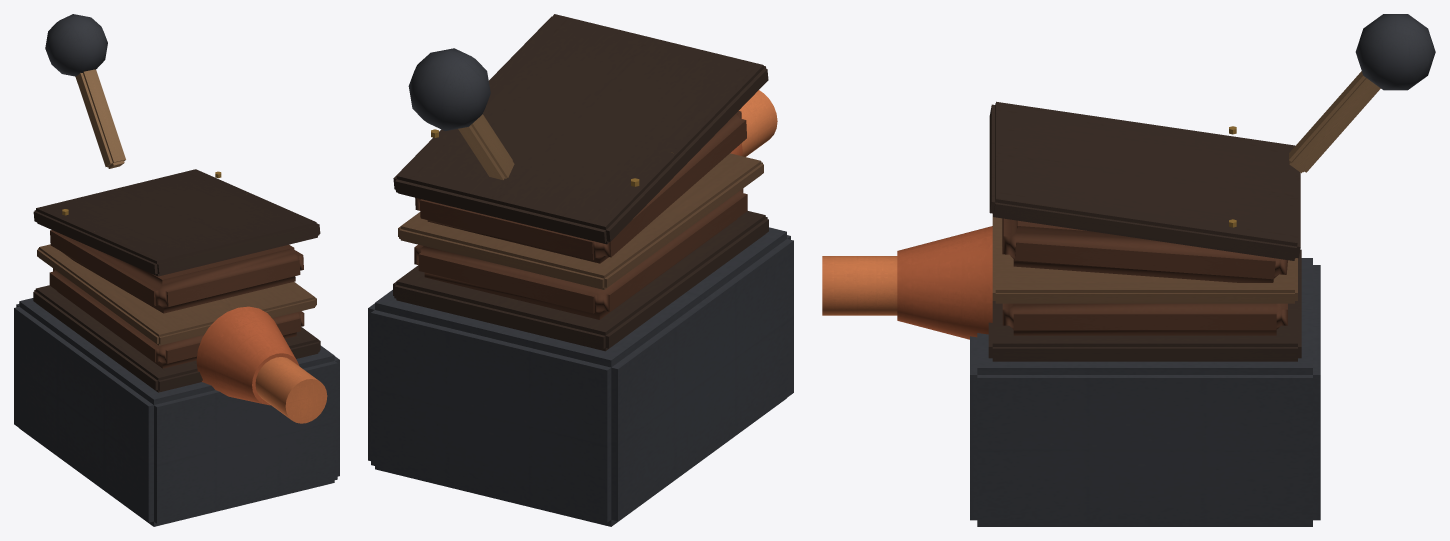
Rendered from bellows_forge_pedestal.glb.
The picture shows the model from 3 angles, left to right: view 1: azimuth 30°, elevation 25°; view 2: azimuth 150°, elevation 25°; view 3: azimuth 270°, elevation 25°; orthographic projection. The views are drawn at different scales.
Parts seen in each view (by area): view 1: bellows_forge_pedestal; view 2: bellows_forge_pedestal; view 3: bellows_forge_pedestal.
Boxes of the visible parts, box(x1,y1,x2,y2) form: bellows_forge_pedestal: box(14, 14, 339, 526); bellows_forge_pedestal: box(368, 14, 793, 526); bellows_forge_pedestal: box(822, 14, 1435, 526).
Size of the model in its own units: 1.1 by 2.01 by 2.45.
1 material, 1 textured.
